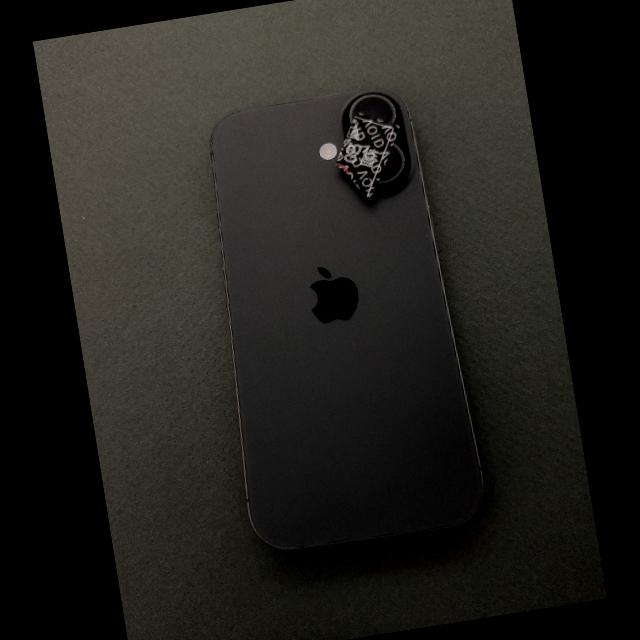lens: (350, 96, 394, 123), (378, 145, 401, 182)
phone: (210, 88, 484, 550)
sticker: (336, 112, 401, 203)
